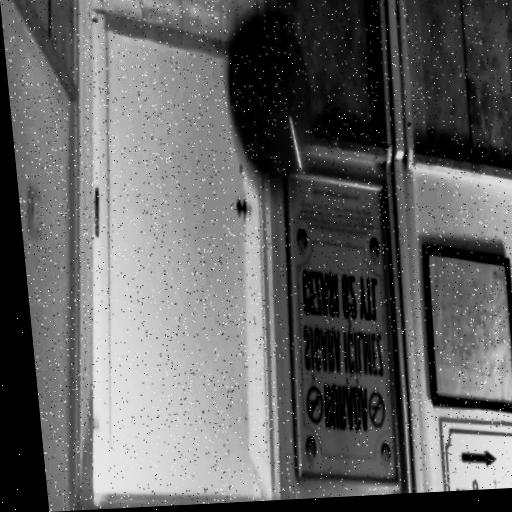balloon: (214, 8, 330, 211)
